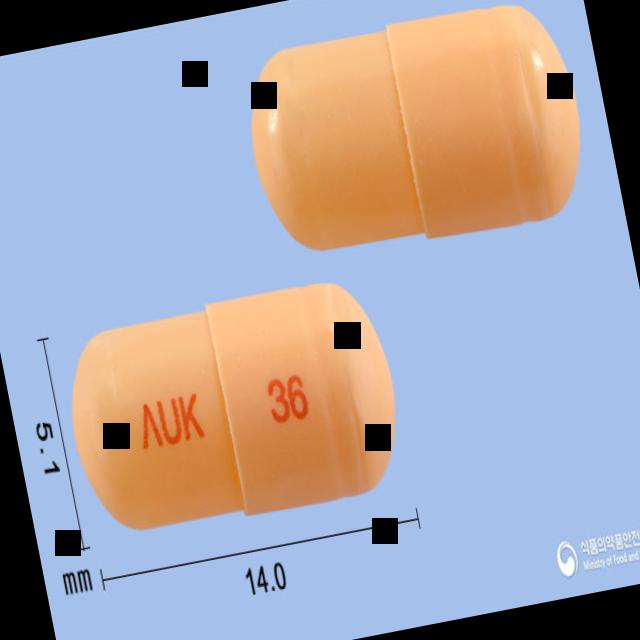Amocla 375mg: (234, 0, 598, 270), (55, 271, 413, 544)
